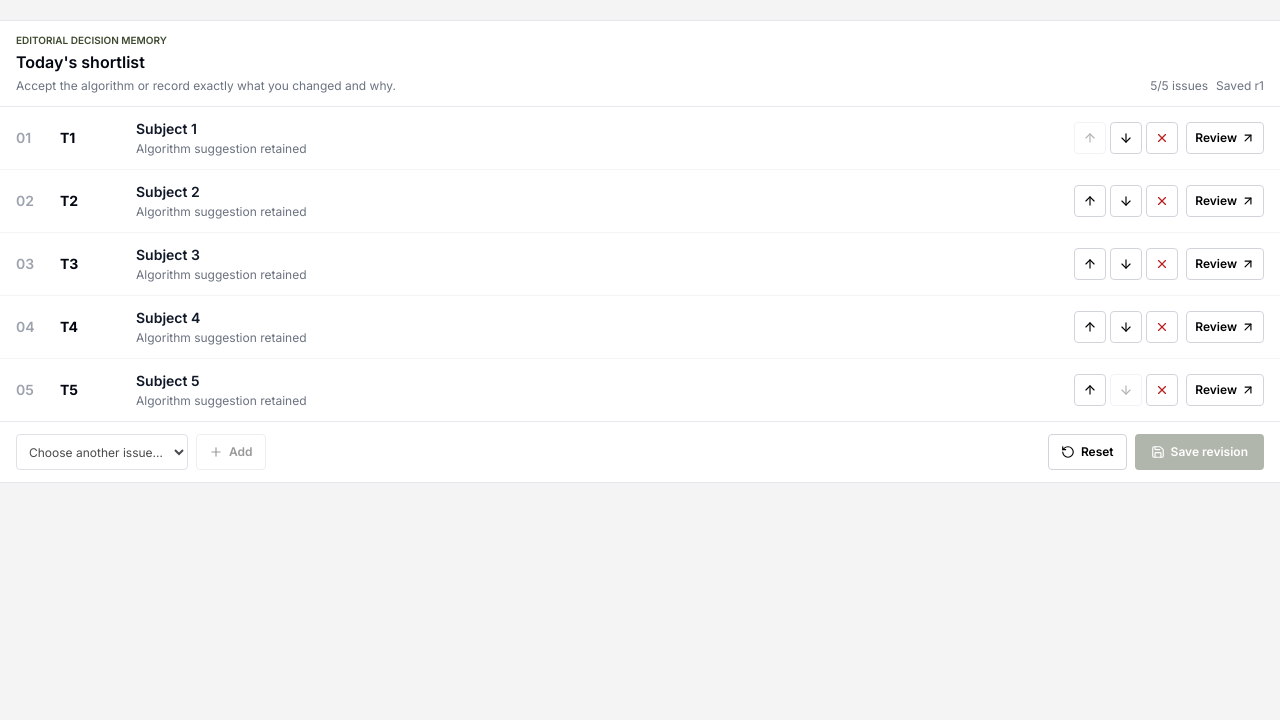
Test: NewsletterEditorialShortlist › preserves and locks dirty choices when focus discovers a newer head
Click the button named "Move T1 down" at coordinates (1126, 138), box [1110,122,1142,154]
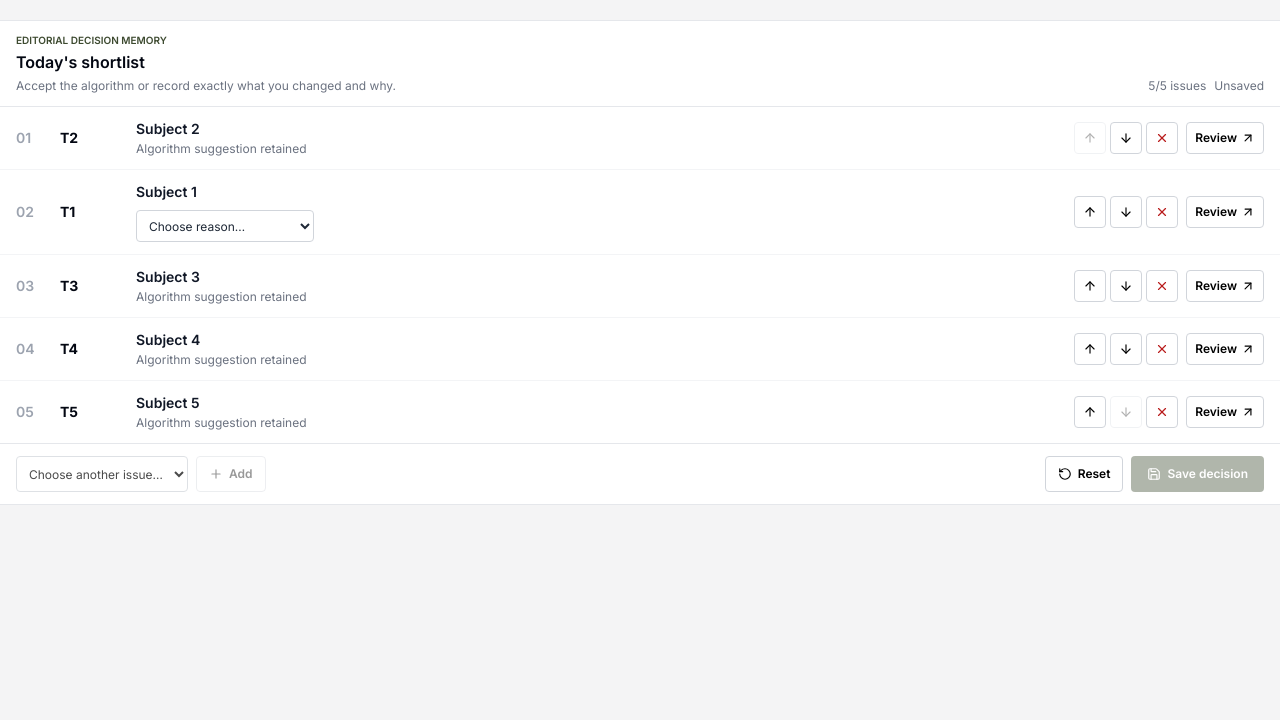
Select "Better audience fit" in the dropdown named "Reason for moved T1" at coordinates (225, 226), box [136,210,314,242]
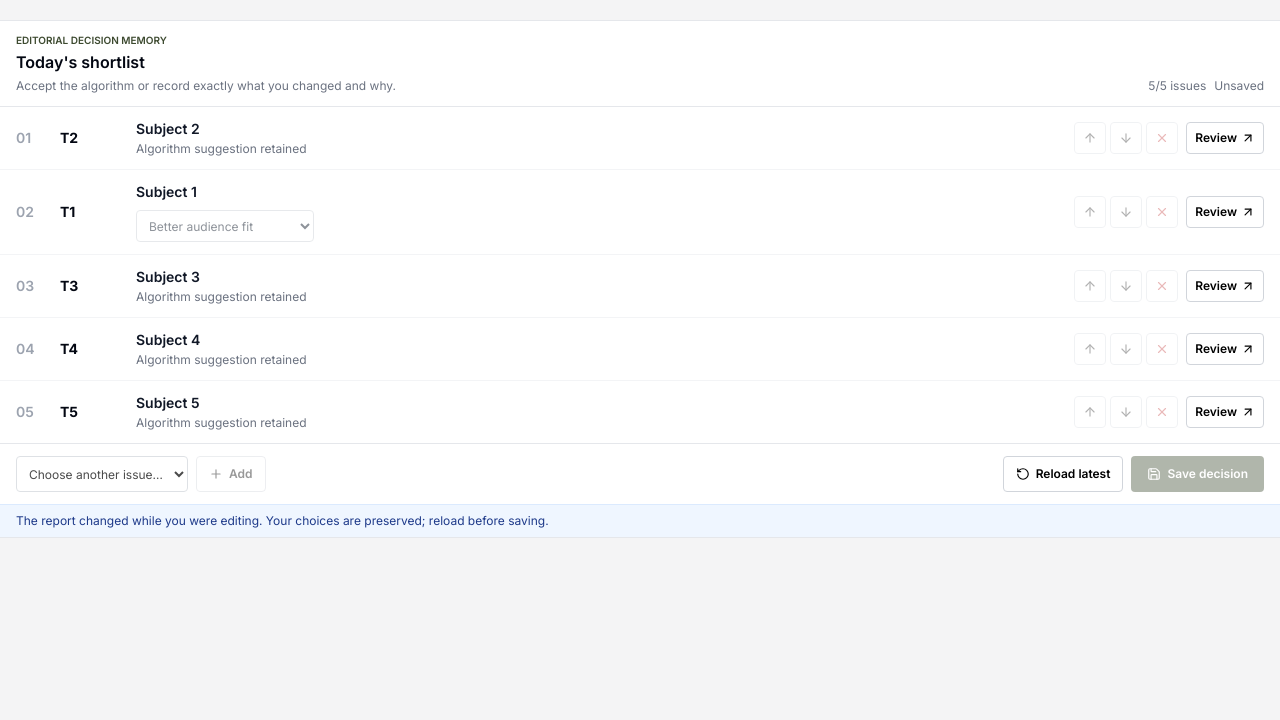
Expected: the button "Save decision" is disabled, [1132,456,1264,492]
Expected: the text "report changed while you were editing" is shown, [16,513,549,528]
Expected: the dropdown named "Reason for moved T1" is disabled, [136,210,314,242]
